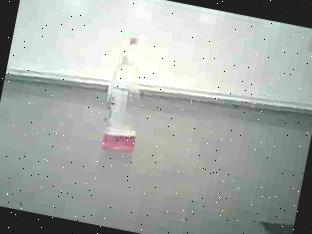hazard: (89, 30, 161, 158)
